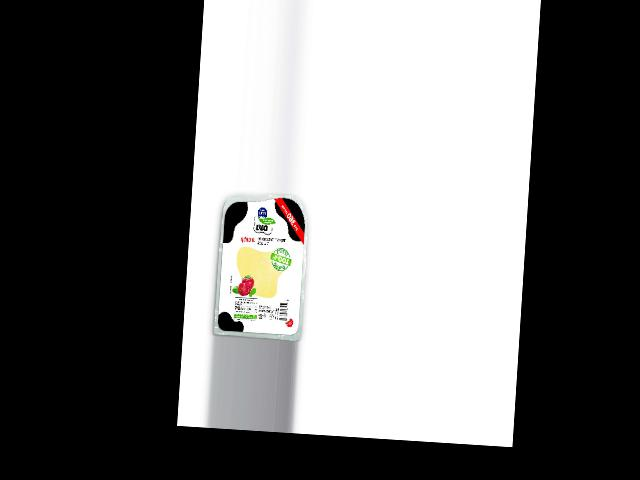cheese: (213, 189, 310, 341)
